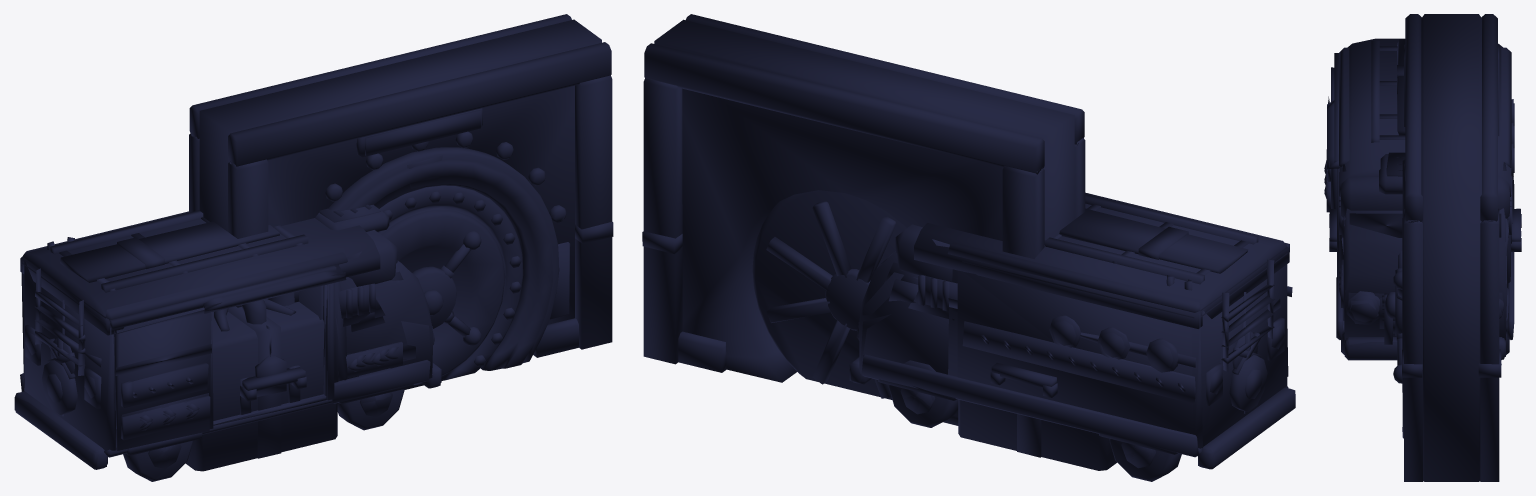
Rendered from Prop_Outline.fbx.
3 views of the same model, side by side, from view 1: azimuth 30°, elevation 25°; view 2: azimuth 150°, elevation 25°; view 3: azimuth 270°, elevation 25° (orthographic). The views are drawn at different scales.
Parts seen in each view (by area): view 1: VaultDoor_Frame_Outline, VanCamper_Outline, GiantPresent_Outline, VanSecurity_Outline, VaultDoor_Door_Outline, VanBakery_Outline, VanBakery_Paint_Outline, VanCamper_Paint_Outline, VaultDoor_Dial_Outline, VanSecurity_Paint_Outline; view 2: VaultDoor_Frame_Outline, VanCamper_Outline, VanSecurity_Outline, VaultDoor_Door_Outline, VanCamper_Paint_Outline, VanSecurity_Paint_Outline, VanBakery_Outline, VanBakery_Paint_Outline, GiantPresent_Outline; view 3: VaultDoor_Frame_Outline, VanCamper_Outline, VanBakery_Outline, VanCamper_Paint_Outline, VanSecurity_Outline, VanBakery_Paint_Outline, VaultDoor_Dial_Outline, GiantPresent_Outline, VanSecurity_Paint_Outline.
Boxes of the visible parts, <box> form: VaultDoor_Frame_Outline: <box>189,14,613,370</box>; VanCamper_Outline: <box>15,210,439,481</box>; GiantPresent_Outline: <box>185,299,337,471</box>; VanSecurity_Outline: <box>14,237,441,481</box>; VaultDoor_Door_Outline: <box>268,185,523,389</box>; VanBakery_Outline: <box>14,204,441,481</box>; VanBakery_Paint_Outline: <box>21,230,431,450</box>; VanCamper_Paint_Outline: <box>21,261,433,450</box>; VaultDoor_Dial_Outline: <box>412,231,481,345</box>; VanSecurity_Paint_Outline: <box>21,265,431,443</box>; VaultDoor_Frame_Outline: <box>642,14,1085,425</box>; VanCamper_Outline: <box>850,194,1294,481</box>; VanSecurity_Outline: <box>849,253,1295,481</box>; VaultDoor_Door_Outline: <box>752,190,906,399</box>; VanCamper_Paint_Outline: <box>859,252,1286,448</box>; VanSecurity_Paint_Outline: <box>860,272,1284,448</box>; VanBakery_Outline: <box>849,192,1295,481</box>; VanBakery_Paint_Outline: <box>862,224,1288,448</box>; GiantPresent_Outline: <box>958,363,1116,470</box>; VaultDoor_Frame_Outline: <box>1402,14,1501,481</box>; VanCamper_Outline: <box>1339,38,1514,360</box>; VanBakery_Outline: <box>1324,47,1511,360</box>; VanCamper_Paint_Outline: <box>1339,172,1510,339</box>; VanSecurity_Outline: <box>1324,149,1514,359</box>; VanBakery_Paint_Outline: <box>1331,67,1510,292</box>; VaultDoor_Dial_Outline: <box>1385,251,1402,383</box>; GiantPresent_Outline: <box>1329,208,1521,251</box>; VanSecurity_Paint_Outline: <box>1343,270,1507,343</box>.
Size of the model in its own units: 23.58 by 12.15 by 7.5.
1 material, 1 textured.
